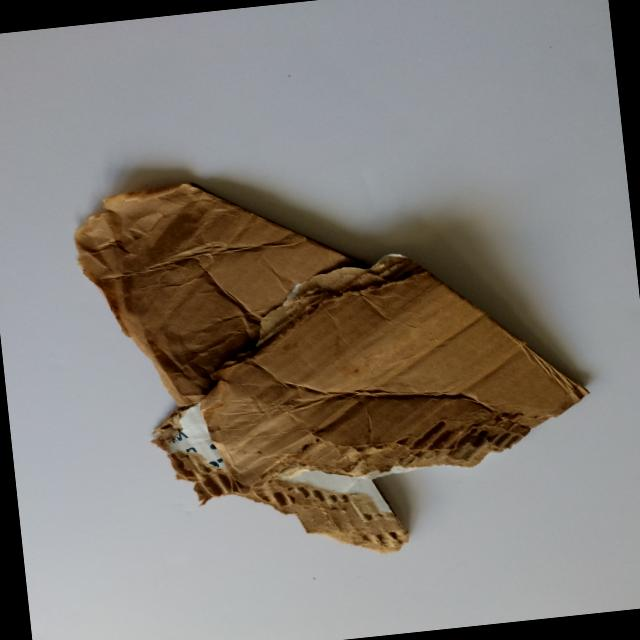Cardboard: (69, 124, 605, 586)
